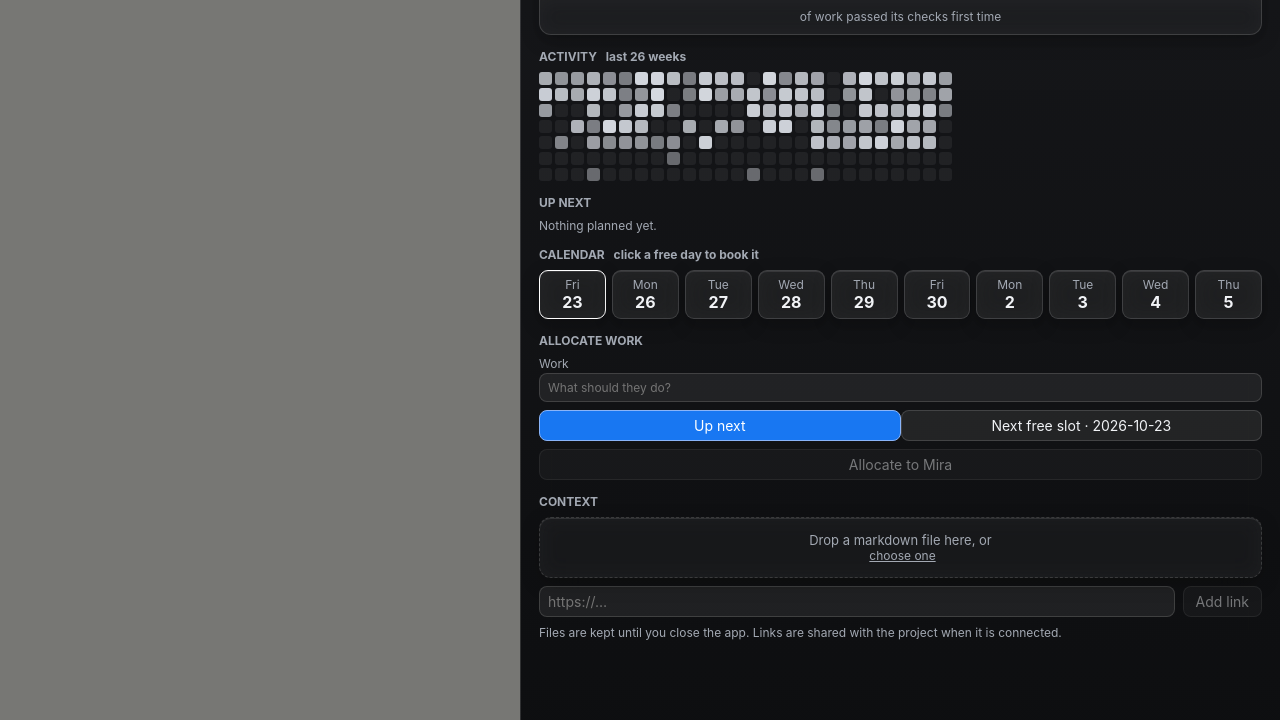
Test: PersonProfile › labels sample data and allocates to the next free slot
(page scrolled)
In the field labelled "Work": (900, 388) [539,373,1262,402], type "Export API"
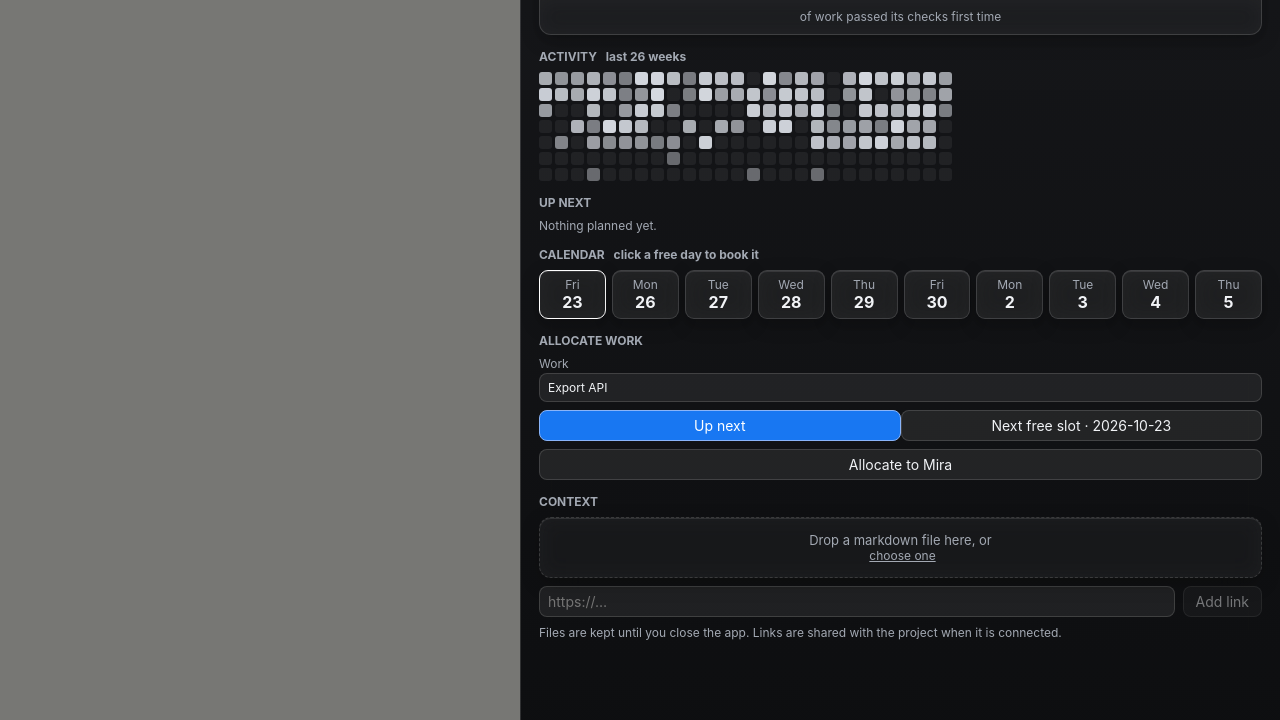
Click the button "Next free slot · 2026-10-23": click(1081, 426) [900,410,1262,441]
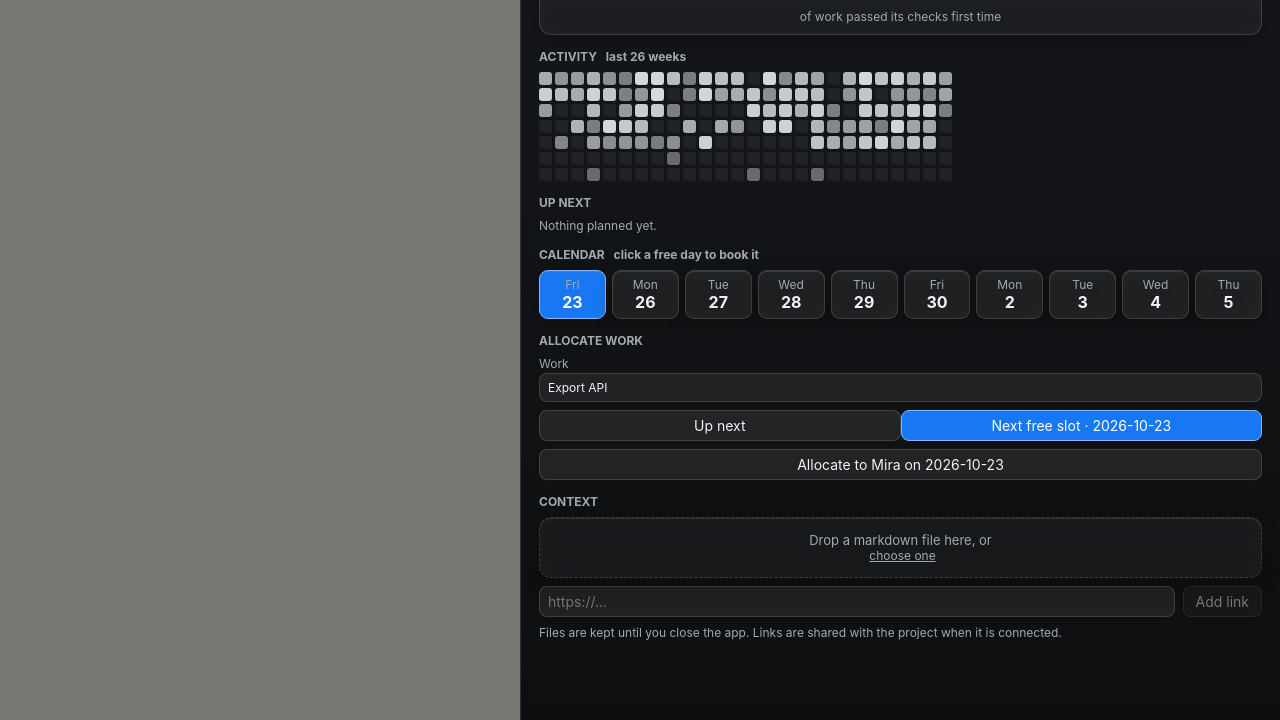
Click the button "Allocate to Mira on 2026-10-23": click(900, 464) [539,449,1262,480]
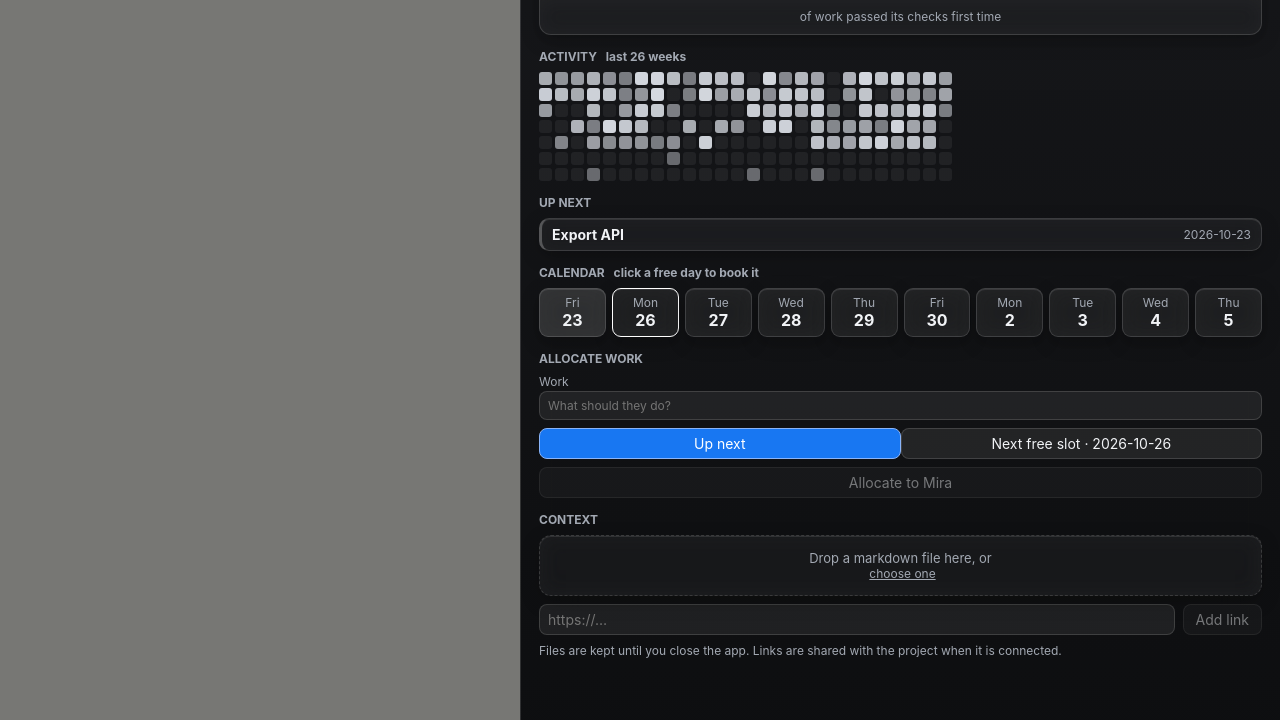
Check: the list item "Export API" shows "2026-10-23", box [1184,227,1251,242]
